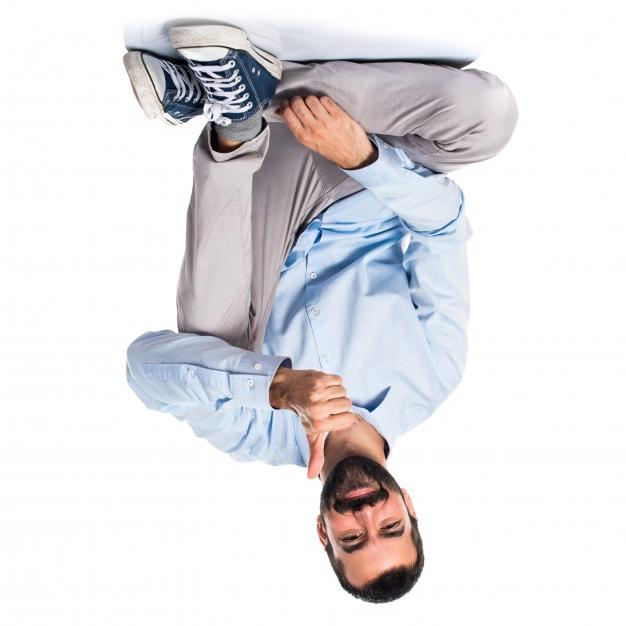thumbsdown: (303, 374, 356, 480)
